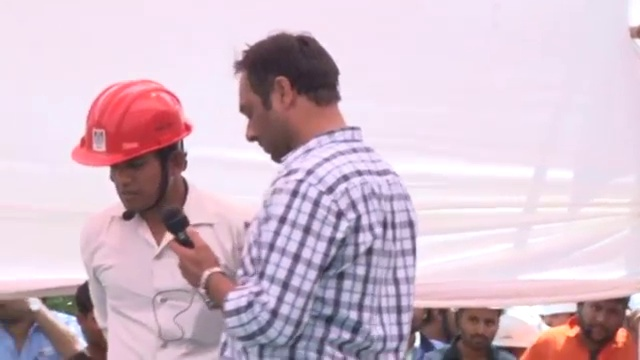helmet: (70, 77, 196, 170), (489, 308, 552, 350)
helmet_off: (239, 35, 352, 153), (69, 281, 110, 358), (455, 308, 505, 350), (1, 291, 46, 337), (578, 299, 633, 332)
helmet_on: (68, 83, 198, 222)
person: (173, 40, 420, 356), (76, 83, 247, 356), (526, 293, 640, 359), (0, 289, 82, 358), (422, 304, 517, 358)
